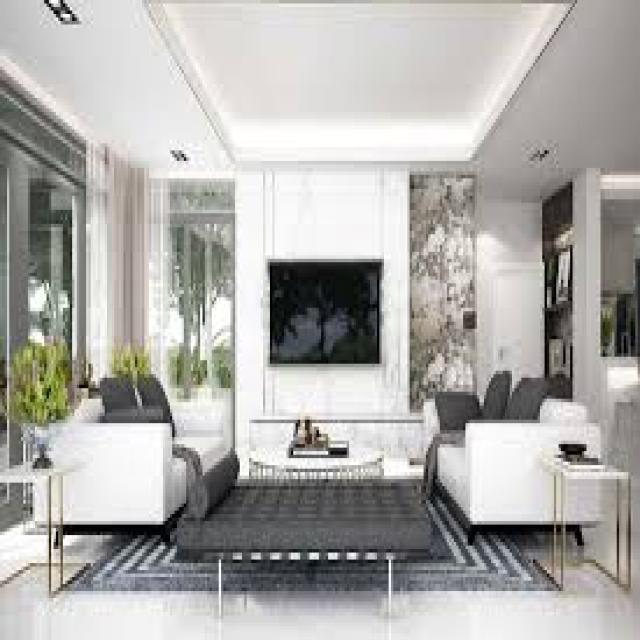Sofa: (193, 458, 433, 616), (428, 376, 600, 548), (62, 384, 231, 534)
Table: (251, 428, 390, 486)
